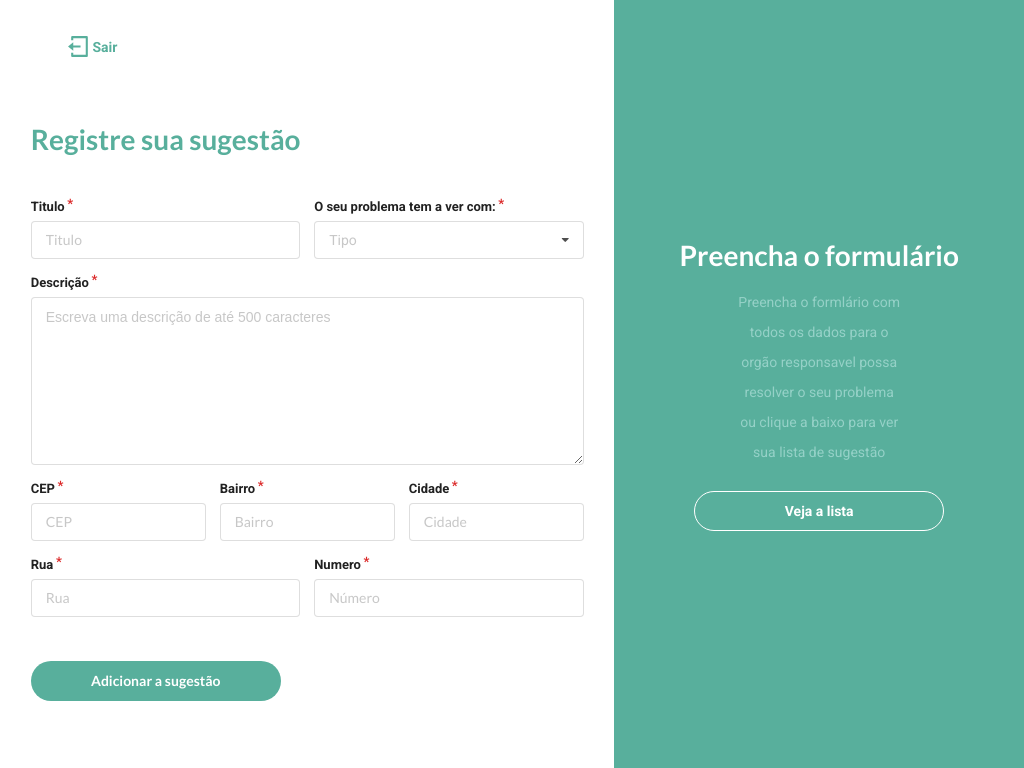
tests on the Form component › check if the state change of the input CEP is happening keeping the mask
This screenshot has width=1024, height=768.
In the field with test id "inputCEP": (118, 522) [31, 502, 206, 540], type "123"
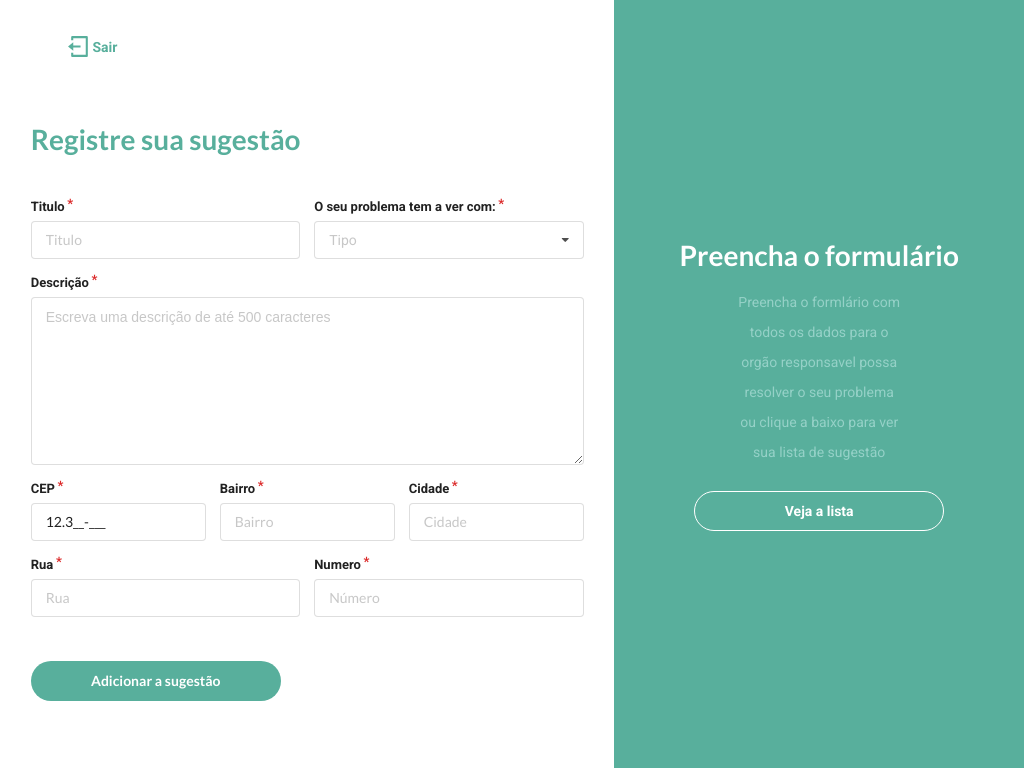
Check: the field with test id "inputCEP" holds "12.3__-___", box [31, 502, 206, 540]
